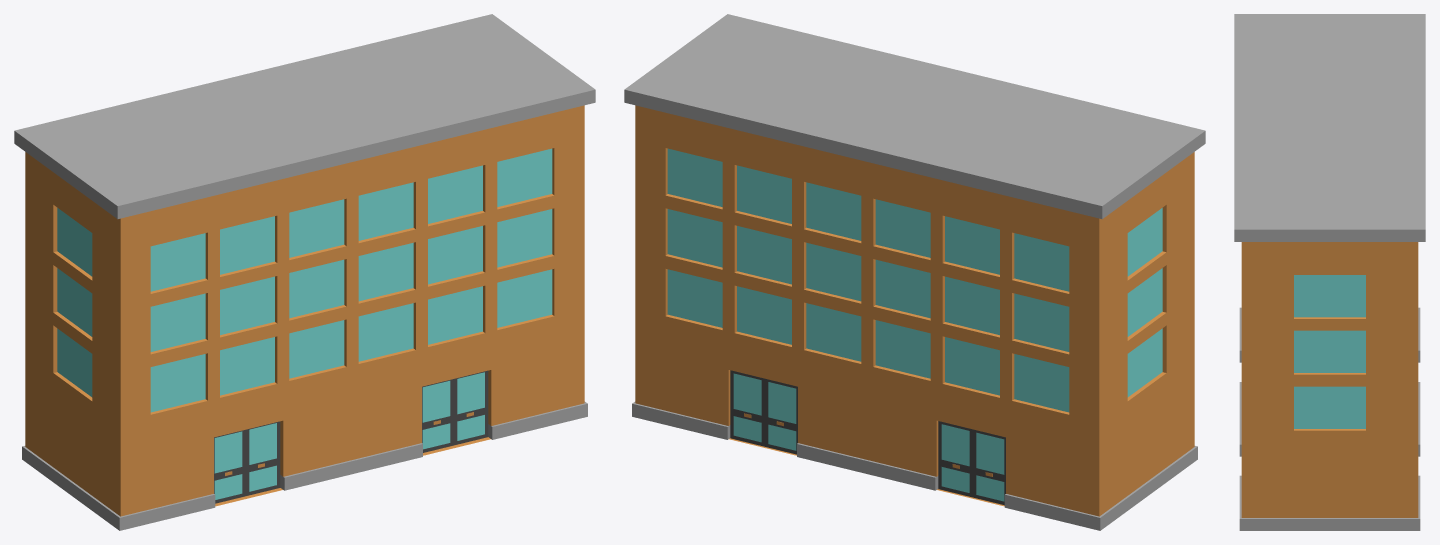
The model's file is building2.fbx.
3 renders of one model, left to right at view 1: azimuth 30°, elevation 25°; view 2: azimuth 150°, elevation 25°; view 3: azimuth 270°, elevation 25°, orthographic. The views are drawn at different scales.
Parts seen in each view (by area): view 1: Cube.005; view 2: Cube.005; view 3: Cube.005.
Part boxes in pixels (box(x1,y1,x2,y2)): Cube.005: box(14, 14, 595, 530); Cube.005: box(624, 14, 1205, 530); Cube.005: box(1234, 14, 1425, 530).
Bounding box in the file's own units: 15.46 × 5.79 × 10.14.
